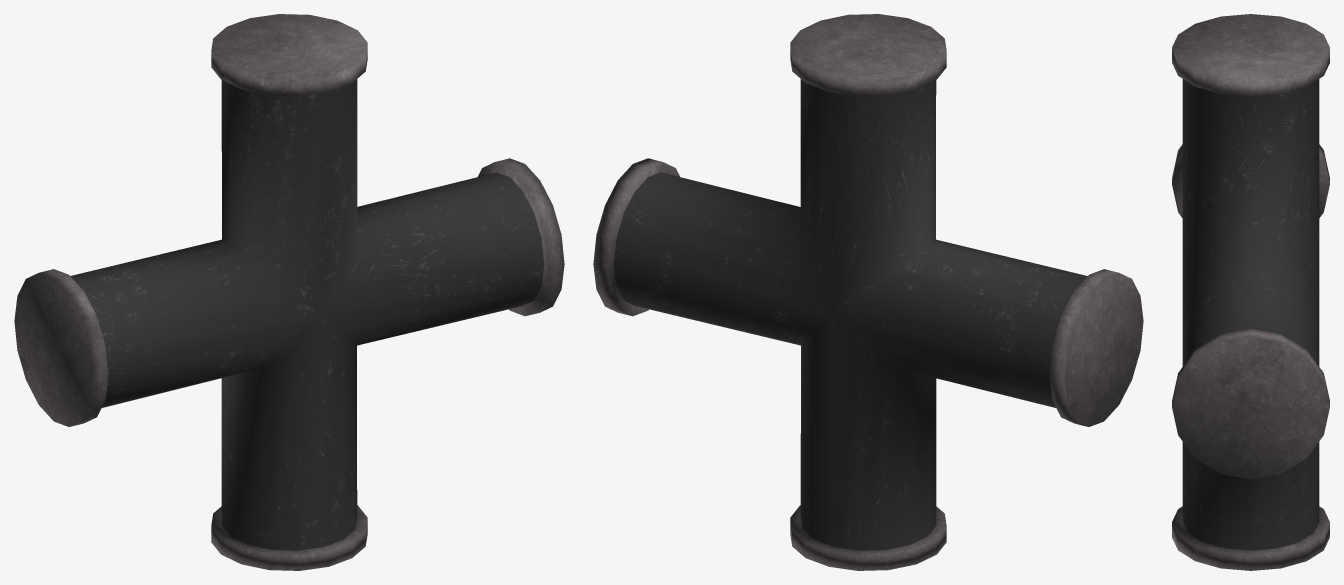
Rendered from PipeFourway.fbx.
The picture shows the model from 3 angles, left to right: view 1: azimuth 30°, elevation 25°; view 2: azimuth 150°, elevation 25°; view 3: azimuth 270°, elevation 25°; orthographic projection.
Visible parts, largest first — view 1: PipeFourway; view 2: PipeFourway; view 3: PipeFourway.
Part boxes in pixels (x1,y1,x2,y2): PipeFourway: [14, 14, 564, 570]; PipeFourway: [593, 14, 1143, 570]; PipeFourway: [1172, 14, 1329, 570].
Size of the model in its own units: 100 by 99.53 by 29.04.
1 material, 1 textured.
